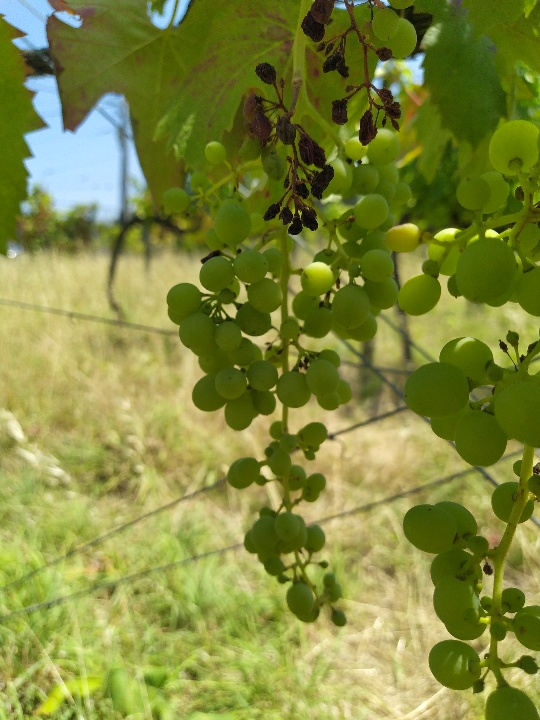grape: (150, 97, 419, 642), (237, 1, 418, 240)
